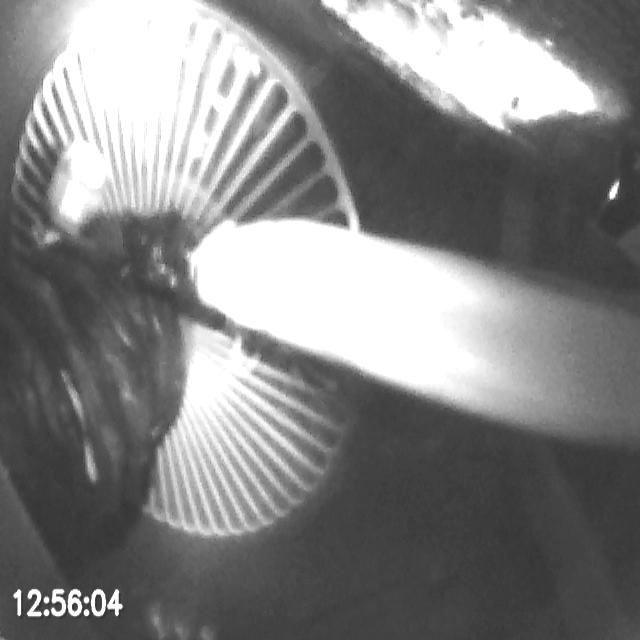head: (31, 140, 106, 248)
